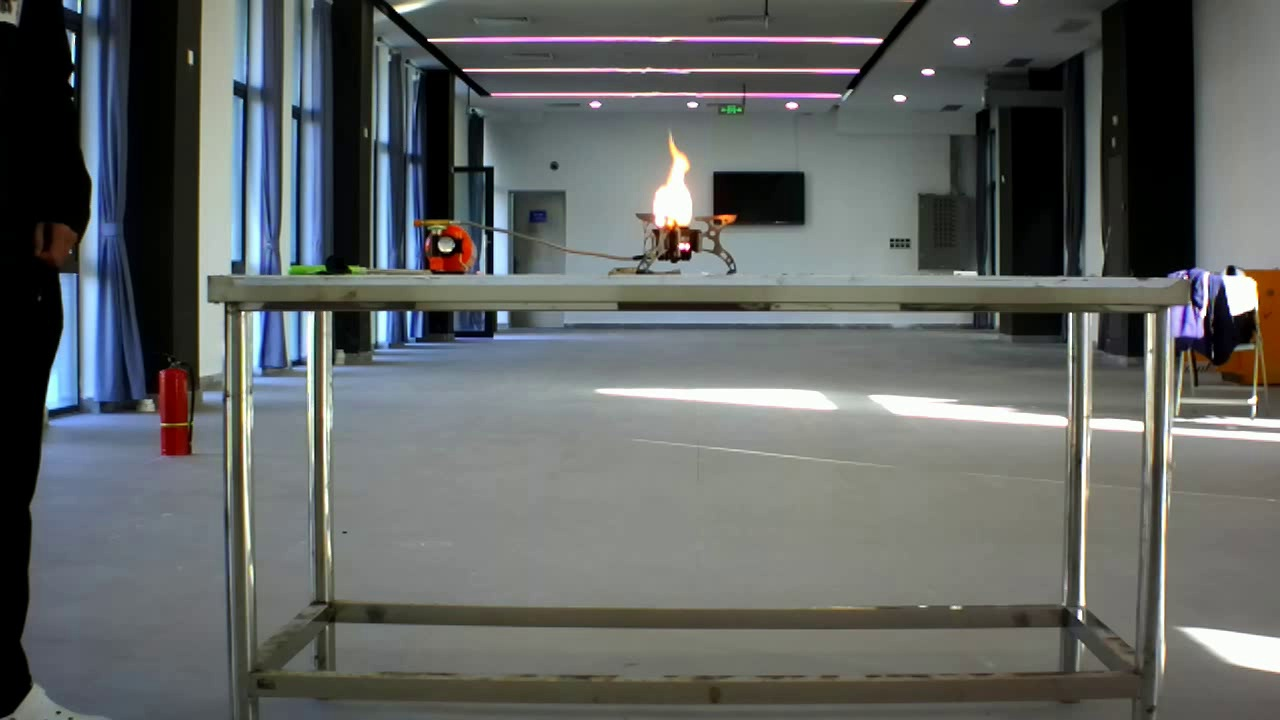Fire: (635, 126, 740, 264)
